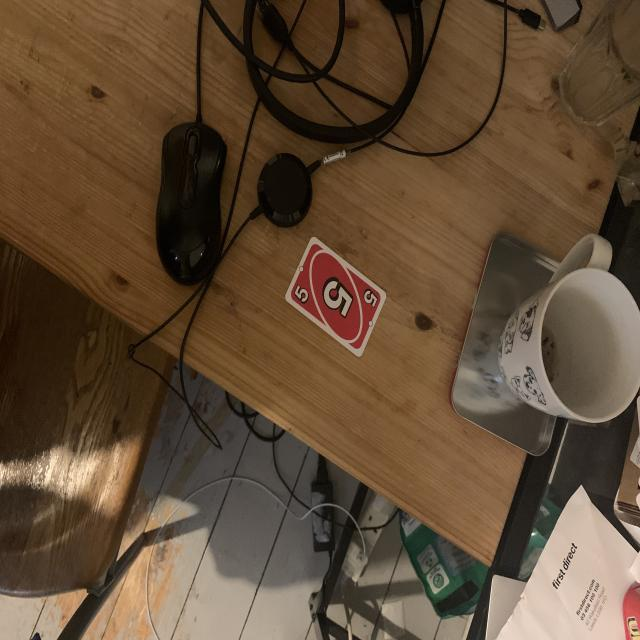lred-5: (293, 284, 310, 304)
